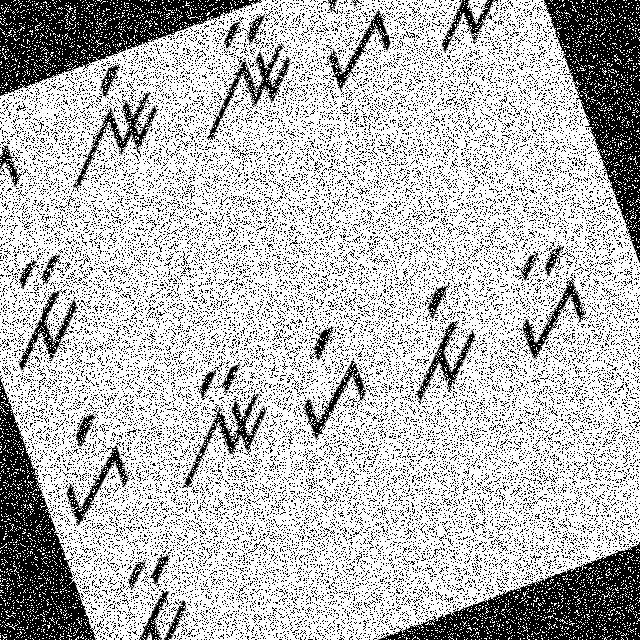han: (481, 236, 606, 378), (292, 0, 416, 96)
hang: (31, 392, 149, 536), (273, 314, 392, 454), (0, 101, 37, 228)
mban: (0, 238, 106, 383), (89, 538, 216, 639)
mbang: (367, 271, 498, 418), (404, 0, 533, 65)
ndan: (136, 341, 294, 506), (166, 3, 312, 151)
ndang: (33, 44, 189, 193)
